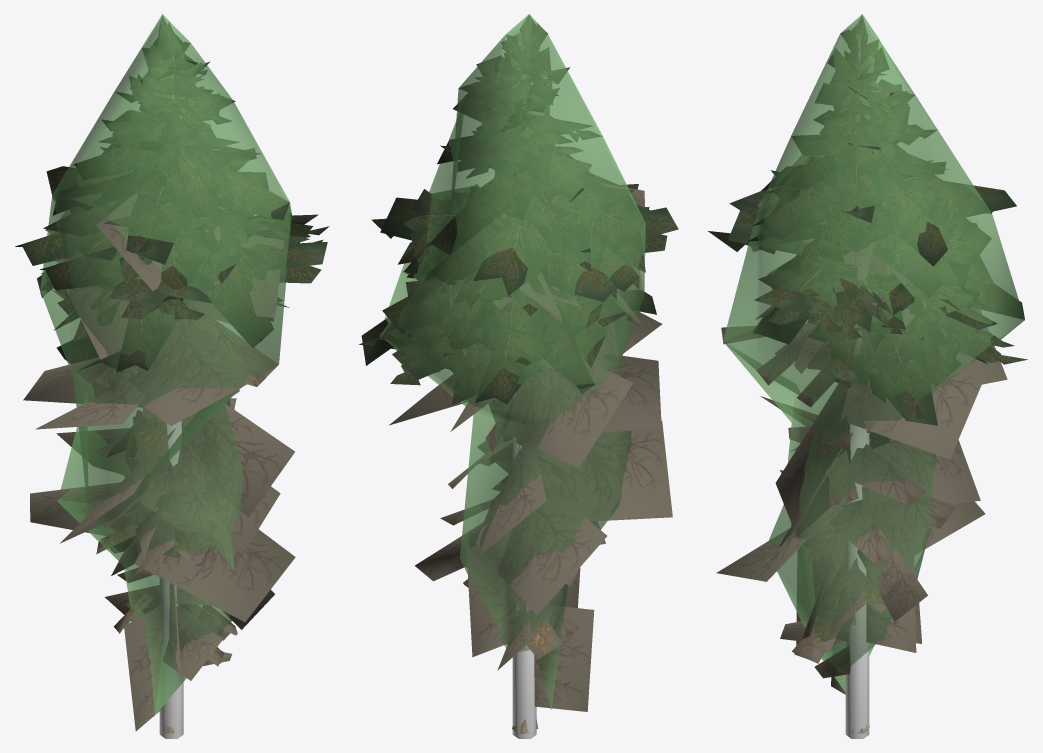
File: tree_douglasfir_large_d.dae
3 renders of one model, left to right at view 1: azimuth 30°, elevation 25°; view 2: azimuth 150°, elevation 25°; view 3: azimuth 270°, elevation 25°, orthographic.
Parts seen in each view (by area): view 1: Colmesh_large_d-1, tree_douglasfir_large_d_a800, tree_douglasfir_large_d_a1600, tree_douglasfir_large_d_a1200; view 2: Colmesh_large_d-1, tree_douglasfir_large_d_a800, tree_douglasfir_large_d_a1600, tree_douglasfir_large_d_a1200; view 3: Colmesh_large_d-1, tree_douglasfir_large_d_a1600, tree_douglasfir_large_d_a800, tree_douglasfir_large_d_a1200.
Boxes of the visible parts, x1,y1,x2,y2 form: Colmesh_large_d-1: [40, 14, 291, 738]; tree_douglasfir_large_d_a800: [15, 21, 327, 680]; tree_douglasfir_large_d_a1600: [15, 14, 329, 731]; tree_douglasfir_large_d_a1200: [50, 76, 283, 733]; Colmesh_large_d-1: [380, 14, 645, 738]; tree_douglasfir_large_d_a800: [361, 14, 678, 658]; tree_douglasfir_large_d_a1600: [359, 20, 667, 731]; tree_douglasfir_large_d_a1200: [443, 31, 645, 734]; Colmesh_large_d-1: [723, 14, 1024, 738]; tree_douglasfir_large_d_a1600: [708, 14, 1027, 733]; tree_douglasfir_large_d_a800: [716, 30, 1023, 663]; tree_douglasfir_large_d_a1200: [756, 269, 869, 733].
Bounding box in the file's own units: 9.3 × 8.9 × 21.91.
